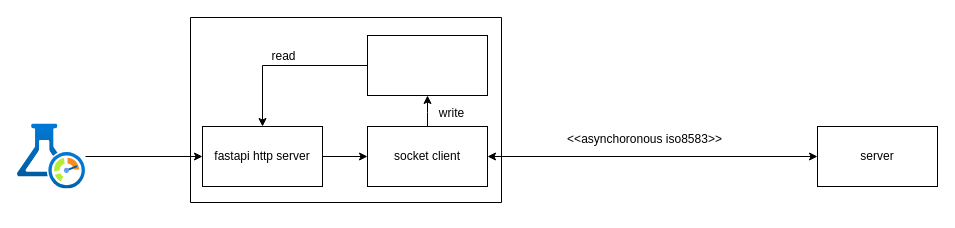
Some shapes in this 955 by 228 pixel diagram are drawn without their labels. Here are the shapes that lost their labels. From the top down, the box of each, then its label:
(366, 34, 488, 96): Thread Safe Map
(17, 123, 85, 189): Load Test
